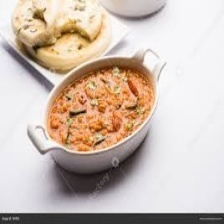sabzi: (45, 64, 158, 153)
